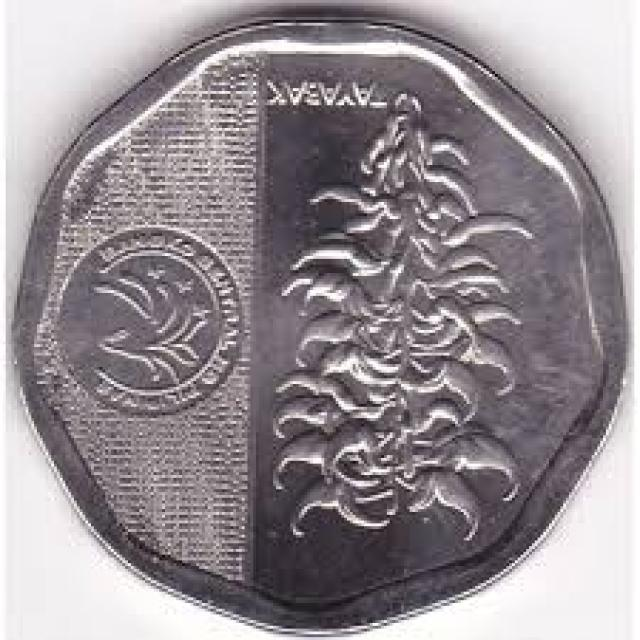5 peso: (5, 4, 634, 632)
